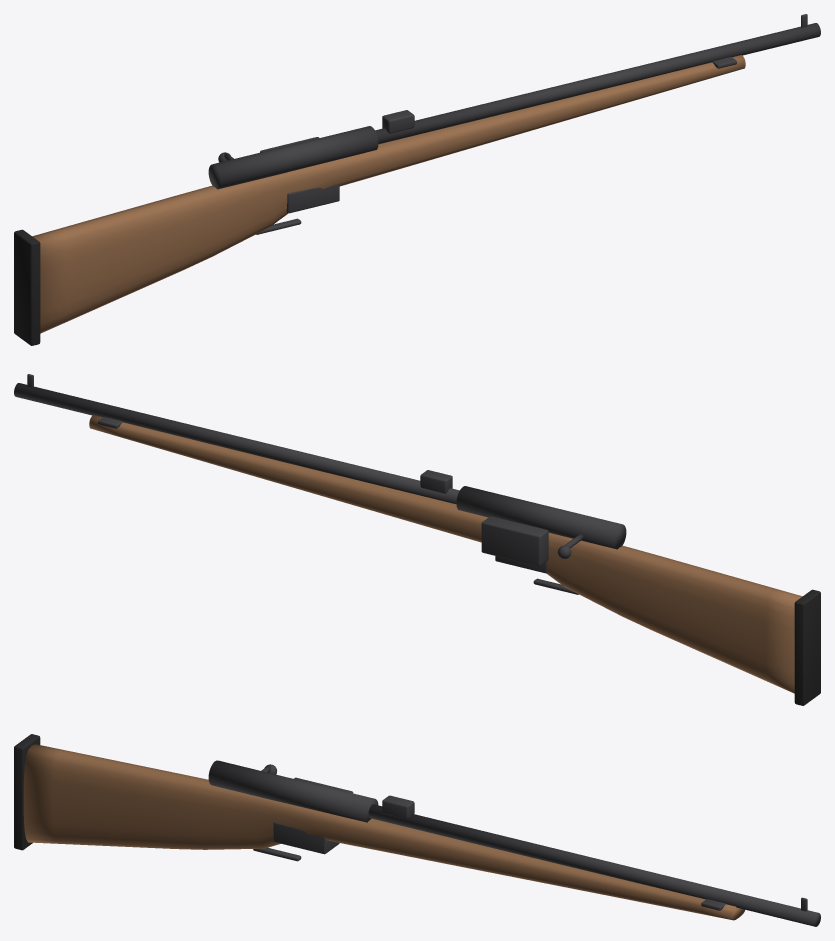
Rendered from SM_Krag.glb.
The picture shows the model from 3 angles, top to bottom: view 1: azimuth 30°, elevation 25°; view 2: azimuth 150°, elevation 25°; view 3: azimuth 330°, elevation 25°; orthographic projection.
Visible parts, largest first — view 1: SM_Krag; view 2: SM_Krag; view 3: SM_Krag.
Boxes of the visible parts, bbox=[...] form: SM_Krag: bbox=[14, 14, 820, 345]; SM_Krag: bbox=[14, 374, 820, 705]; SM_Krag: bbox=[14, 734, 820, 926].
Size of the model in its own units: 1.21 by 0.197 by 0.0925.
